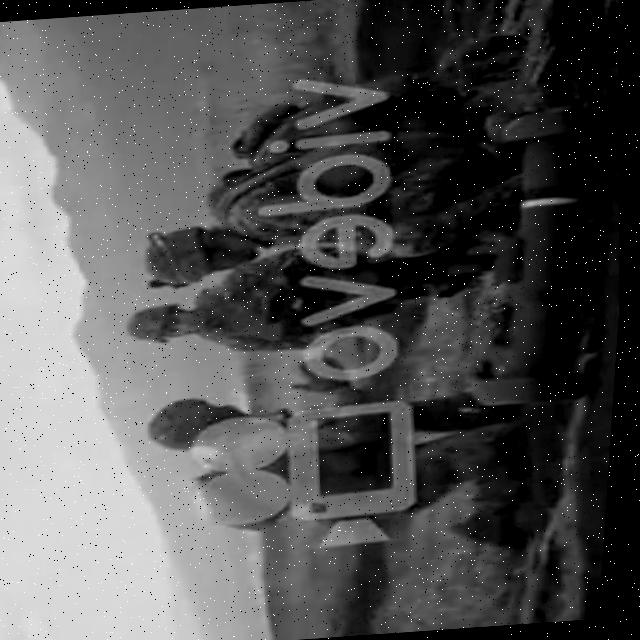rocket: (444, 102, 635, 411)
